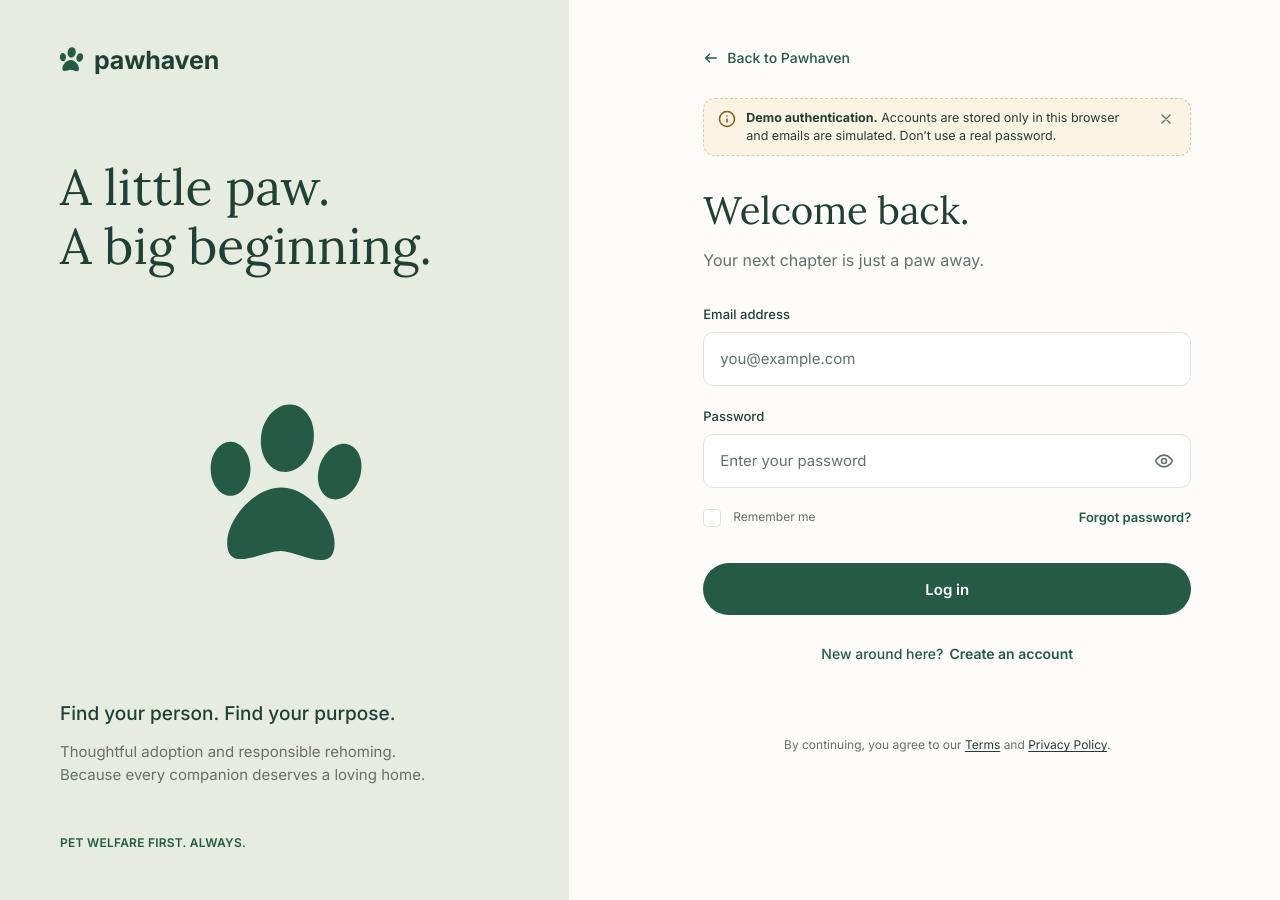
Test: Login page › shows a generic error for bad credentials
Type "nobody@example.com" into the field labelled "Email address" at (947, 359), box [704,333,1190,385]
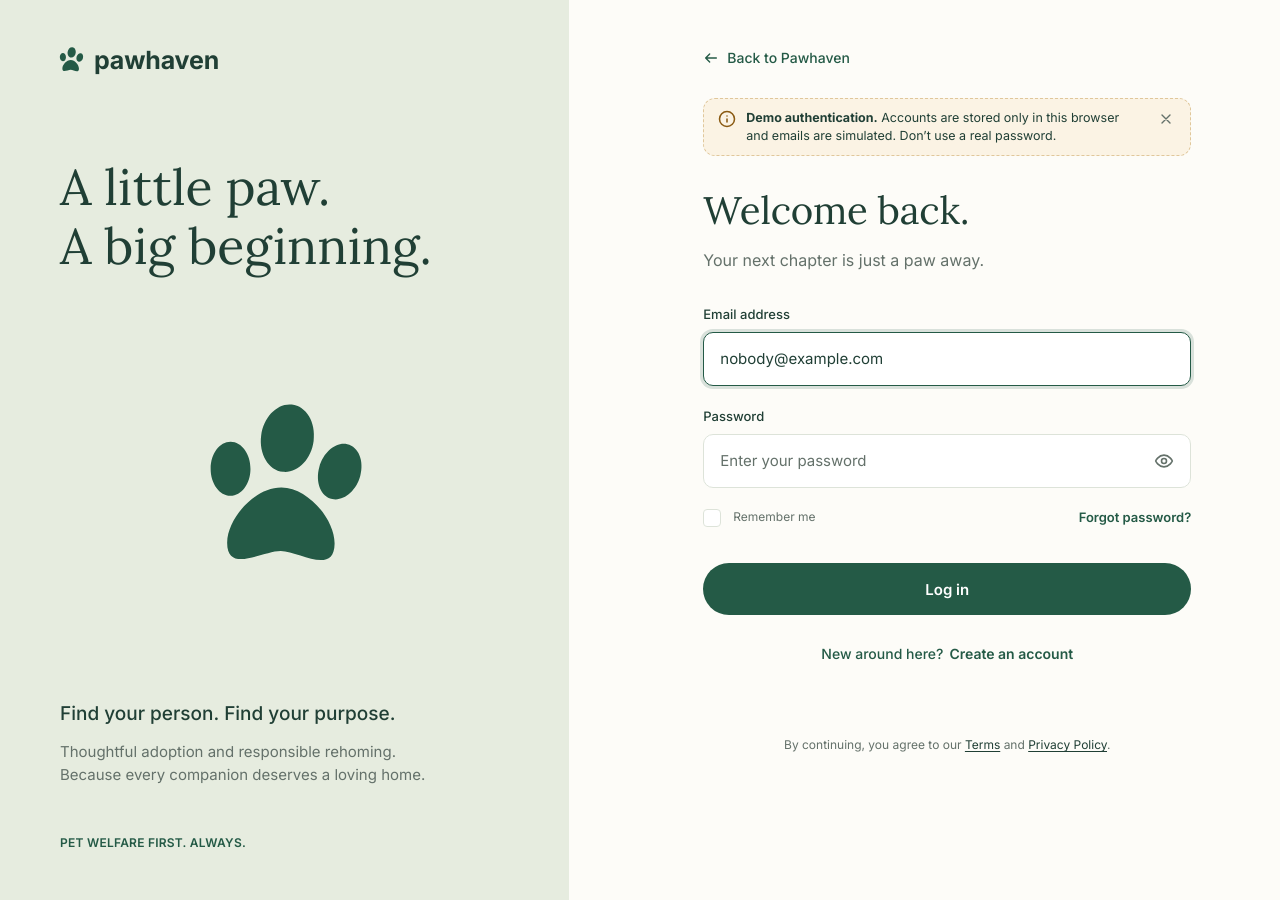
Type "whatever-123!" into the password field labelled "Password" at (947, 461), box [704,435,1190,487]
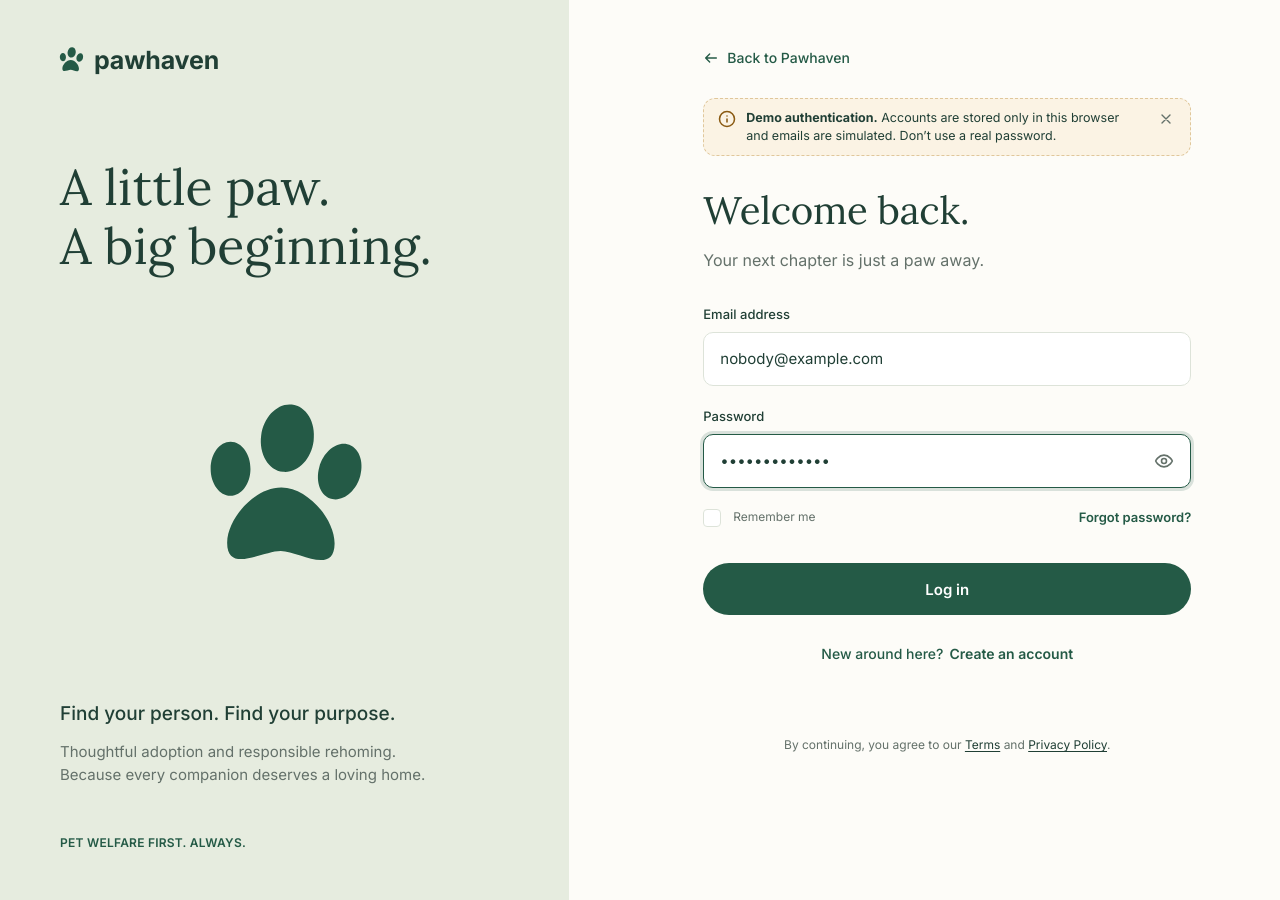
Click the button "Log in" at (947, 589), box [703,563,1191,615]
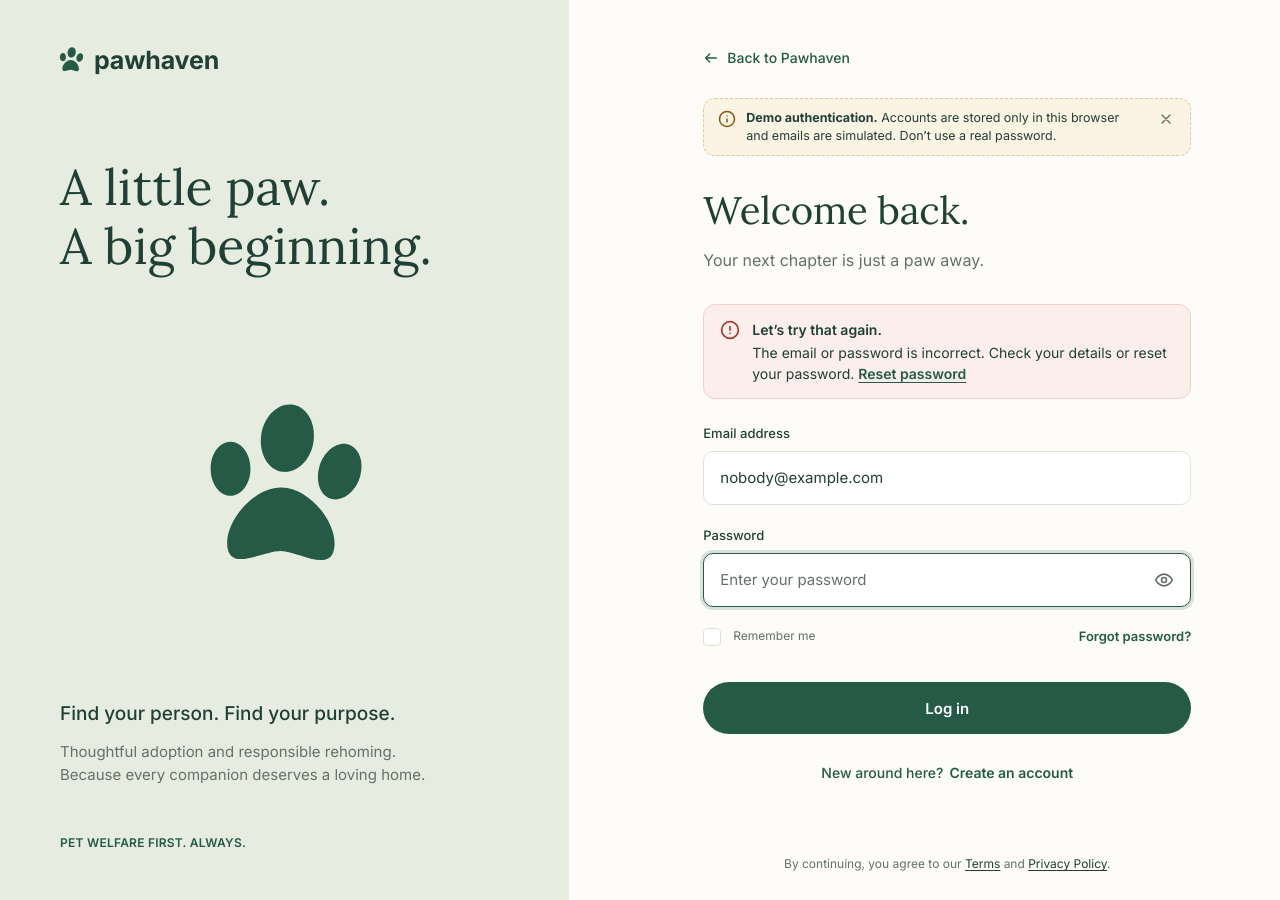
Now the message shows "email or password is incorrect", box [752,344,1167,382]
